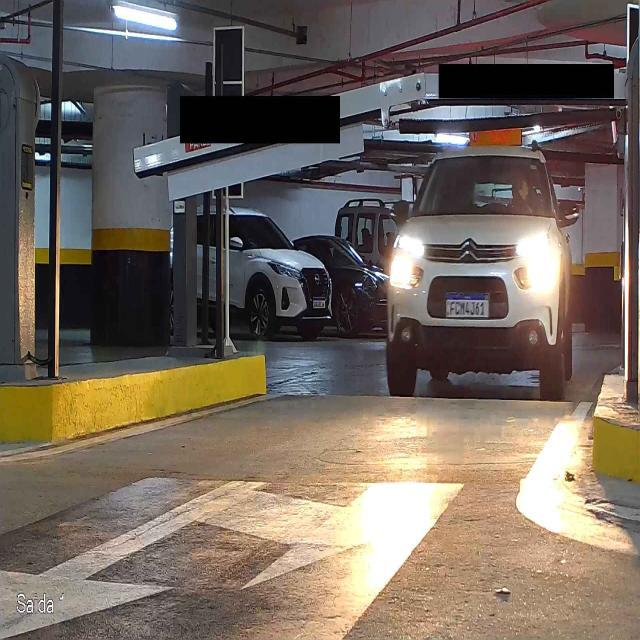mercosul_plate: (444, 292, 494, 322)
